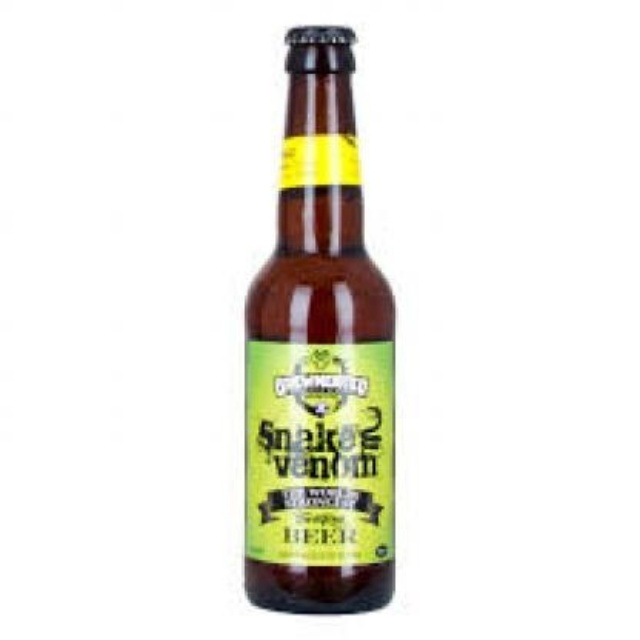trash: (245, 26, 394, 611)
